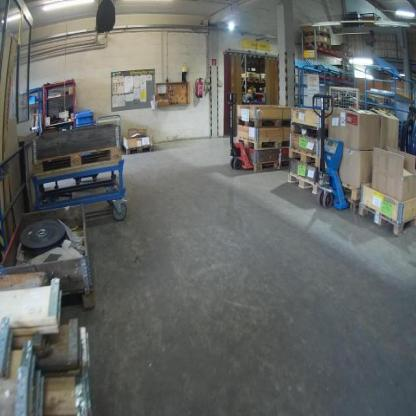pallet: (33, 145, 122, 180), (357, 201, 416, 239), (236, 115, 292, 129), (236, 136, 290, 150), (287, 172, 318, 195), (287, 147, 319, 168), (290, 122, 322, 141), (254, 158, 290, 174), (127, 145, 152, 157), (305, 41, 330, 51), (302, 31, 330, 39)
pallet_truck: (313, 91, 351, 213), (222, 89, 256, 172)
stillage: (324, 80, 376, 113)
